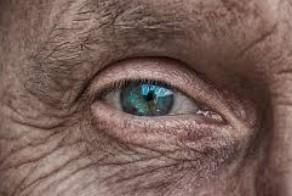eye: (122, 82, 174, 116)
